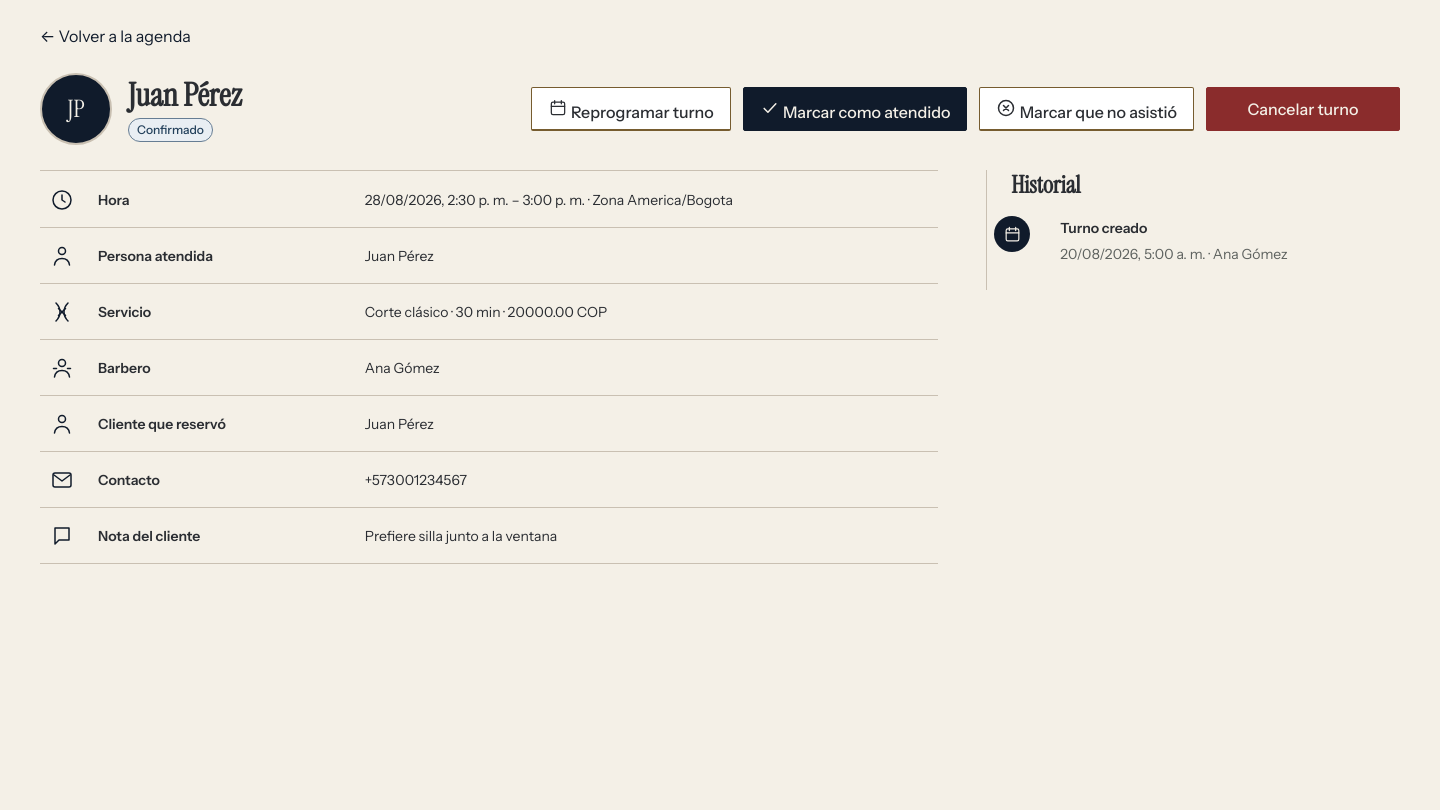
Scenario: AppointmentDetailPage › opens the cancel dialog with the consequence explained before confirming
Click the button "Cancelar turno": (1303, 109) [1206,87,1400,131]
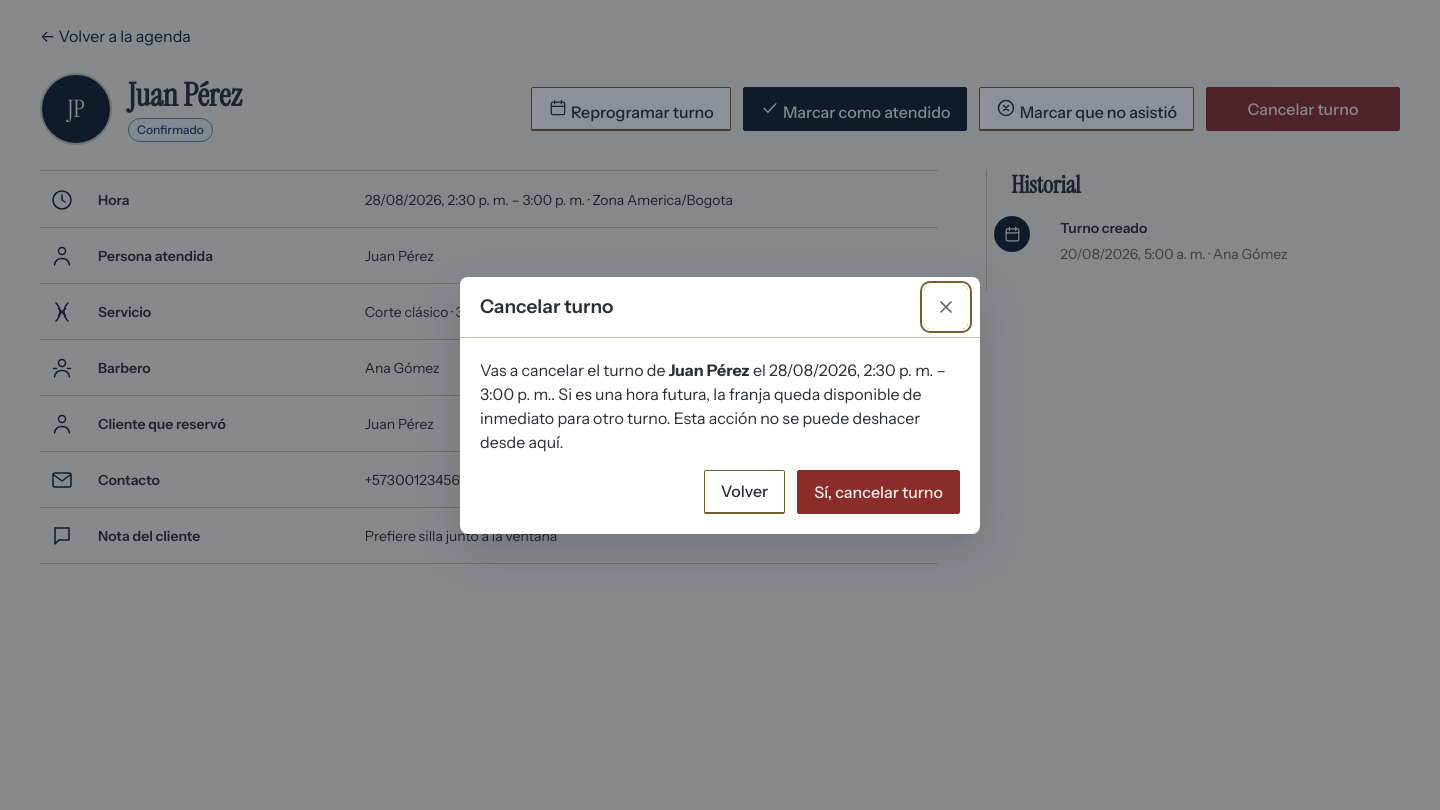
Now the dialog with class "base-dialog--open" shows "Juan Pérez", box [669,360,750,380]
Now the dialog with class "base-dialog--open" shows "no se puede deshacer", box [480,360,946,452]
